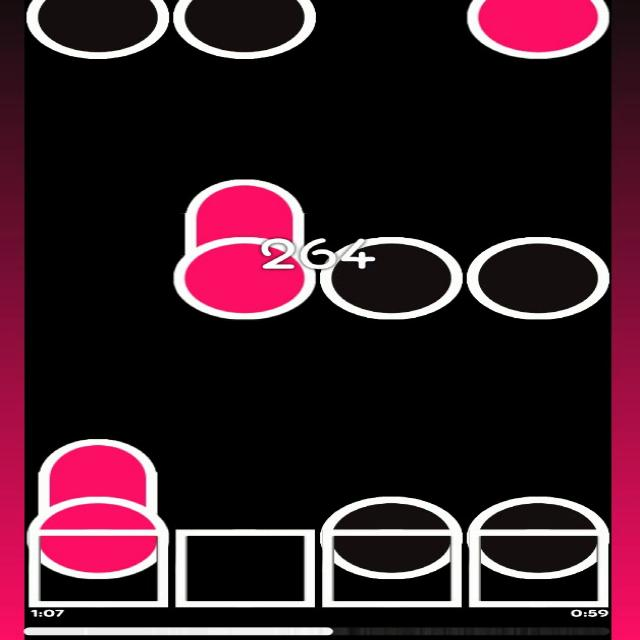end_hold: (30, 436, 162, 480), (178, 177, 307, 218)
note: (316, 234, 464, 321), (317, 495, 463, 579), (468, 237, 612, 319), (470, 496, 610, 579), (26, 0, 170, 58), (174, 0, 317, 58)
start_hold: (173, 228, 314, 321), (26, 489, 170, 579), (464, 0, 612, 60)
